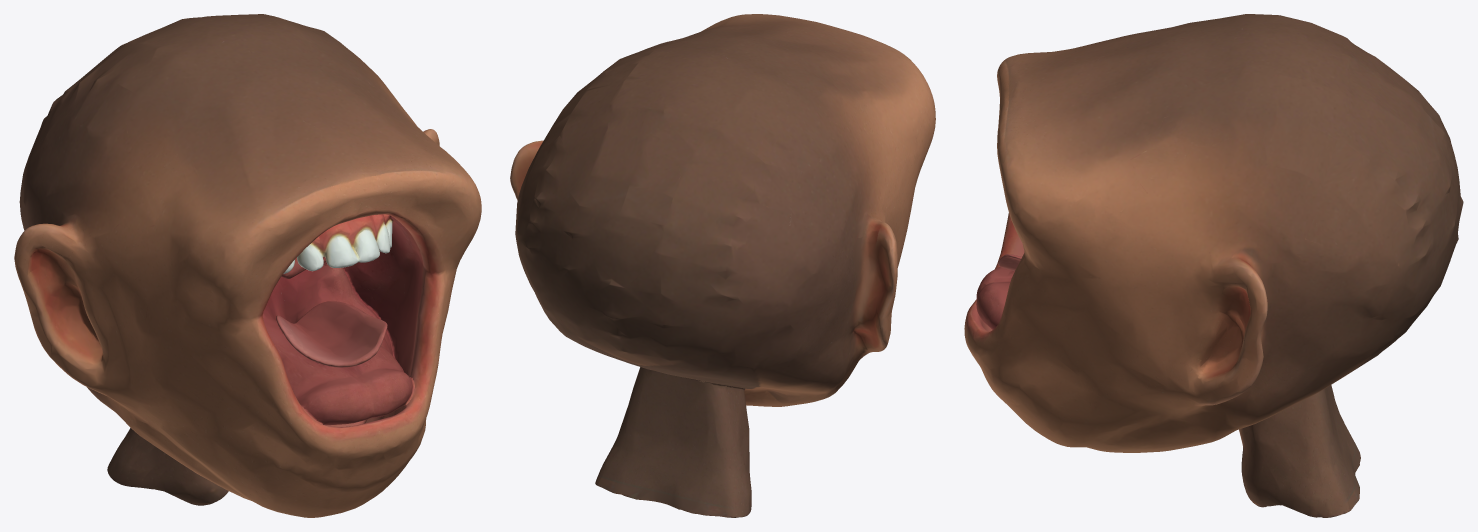
Rendered from Env_MouthCavity.glb.
3 renders of one model, left to right at view 1: azimuth 30°, elevation 25°; view 2: azimuth 150°, elevation 25°; view 3: azimuth 270°, elevation 25°, orthographic. The views are drawn at different scales.
Size of the model in its own units: 1.8 by 1.9 by 1.88.
Materials: 1 (1 with a texture image).
